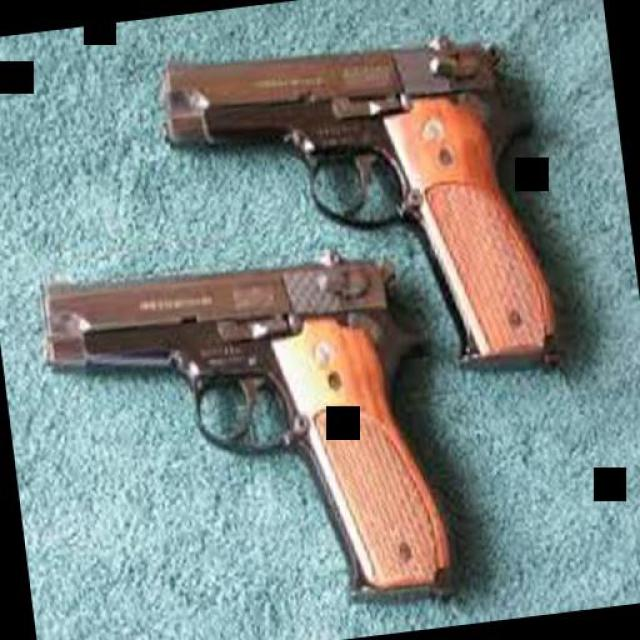gun: (30, 231, 469, 640), (151, 10, 570, 416)
